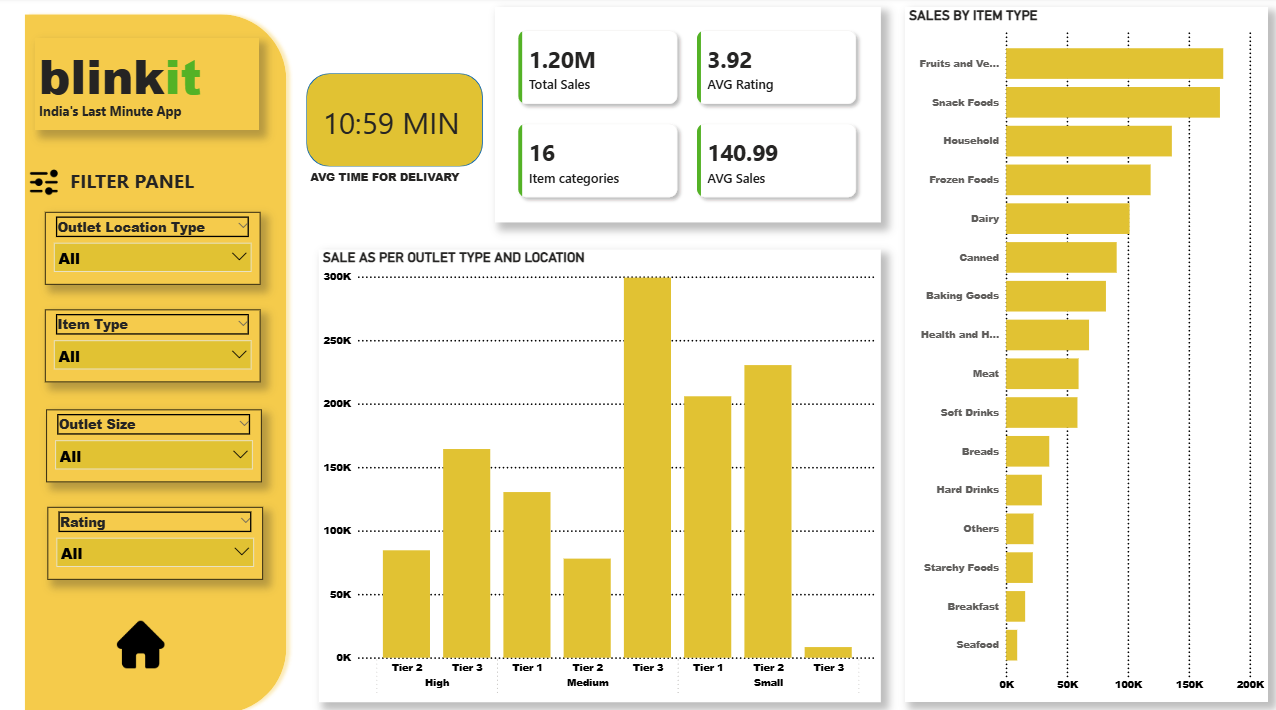

The page's visual inventory and layout, read from the dashboard file:
{"tool":"powerbi","page":{"name":"Page 1","canvas":[1600,900],"ordinal":0},"visuals":[{"type":"cardVisual","fields":{"Data":["Sum(Table1.Sales)","Avg(Table1.Rating)","Count(BlinkIT Grocery Data.Item Type)","Avg(BlinkIT Grocery Data.Sales)"]},"box":[616.5,12.9,479.9,267.7],"z":0},{"type":"shape","box":[22.2,12.9,343.3,887.9],"z":1000},{"type":"textbox","box":[83.1,206.7,182.7,60.9],"z":2000},{"type":"image","box":[36.5,206.6,37.7,46.7],"z":3000},{"type":"slicer","fields":{"Values":["BlinkIT Grocery Data.Outlet Location Type"]},"box":[55.4,267.7,267.7,90.4],"z":4000},{"type":"slicer","fields":{"Values":["Table1.Item Type"]},"box":[55.4,389.5,267.7,90.4],"z":5000},{"type":"slicer","fields":{"Values":["BlinkIT Grocery Data.Outlet Size"]},"box":[57.2,513.2,267.7,90.4],"z":6000},{"type":"slicer","fields":{"Values":["BlinkIT Grocery Data.Rating"]},"box":[59.1,635,267.7,90.4],"z":7000},{"type":"textbox","box":[44.3,51.7,278.7,114.4],"z":8000},{"type":"textbox","box":[44.3,125.5,232.6,79.4],"z":9000},{"type":"image","box":[144,775.3,60.9,59.1],"z":10000},{"type":"barChart","title":"SALES BY ITEM TYPE","fields":{"Category":["BlinkIT Grocery Data.Item Type"],"Y":["Sum(BlinkIT Grocery Data.Sales)"]},"box":[1126,12.9,452.2,863.9],"z":11000},{"type":"lineStackedColumnComboChart","title":"SALE AS PER OUTLET TYPE AND LOCATION ","fields":{"Category":["BlinkIT Grocery Data.Outlet Size","BlinkIT Grocery Data.Outlet Location Type"],"Y":["Sum(BlinkIT Grocery Data.Sales)"]},"box":[396.9,313.8,699.6,563],"z":12000},{"type":"textbox","box":[380.3,210.4,204.9,38.8],"z":12001},{"type":"shape","box":[380.3,94.1,219.7,116.3],"z":12002},{"type":"textbox","box":[396.9,125.5,188.3,66.5],"z":12003}]}

Visuals, with their boxes in screenshot pixels (x1, y1, x2, y2), scaled from the page's 1600x900 canvas onto the 1276x710 screenshot:
cardVisual - Sum(Table1.Sales) x Avg(Table1.Rating): [492,10,874,221]
shape: [18,10,291,709]
textbox: [66,163,212,211]
image: [29,163,59,200]
slicer - BlinkIT Grocery Data.Outlet Location Type: [44,211,258,283]
slicer - Table1.Item Type: [44,307,258,379]
slicer - BlinkIT Grocery Data.Outlet Size: [46,405,259,476]
slicer - BlinkIT Grocery Data.Rating: [47,501,261,572]
textbox: [35,41,258,131]
textbox: [35,99,221,162]
image: [115,612,163,658]
"SALES BY ITEM TYPE" barChart: [898,10,1259,692]
"SALE AS PER OUTLET TYPE AND LOCATION " lineStackedColumnComboChart: [317,248,874,692]
textbox: [303,166,467,197]
shape: [303,74,478,166]
textbox: [317,99,467,151]
